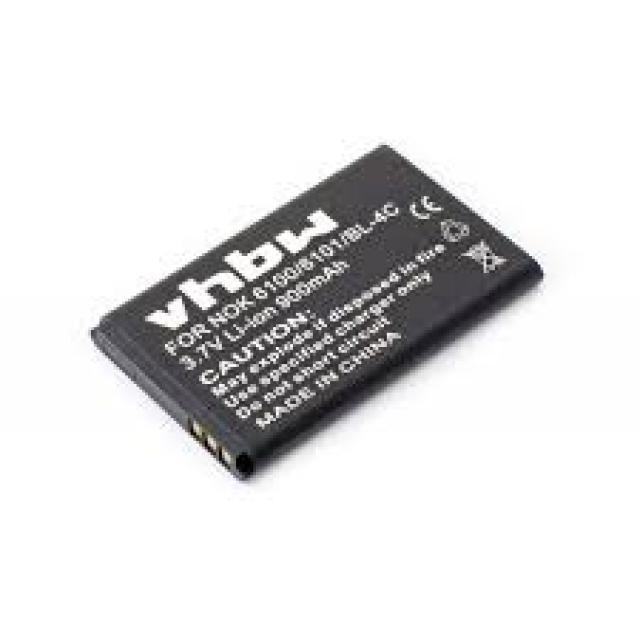non-organic waste: (86, 142, 546, 484)
